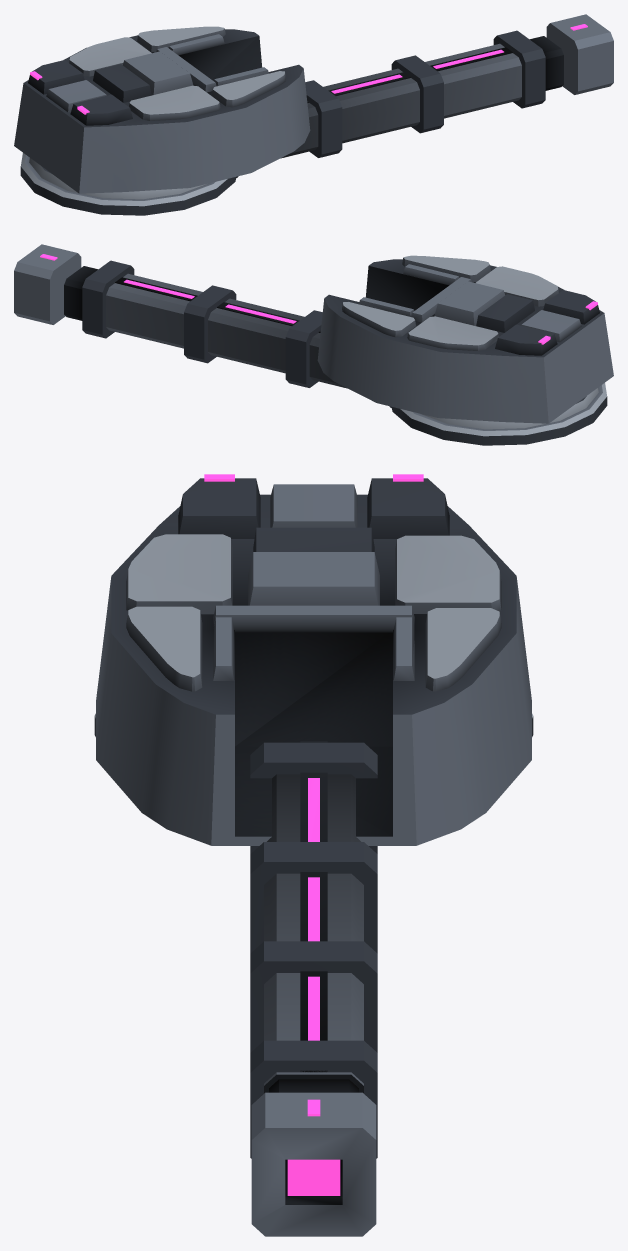
Rendered from lance_lod1.glb.
3 renders of one model, top to bottom at view 1: azimuth 30°, elevation 25°; view 2: azimuth 150°, elevation 25°; view 3: azimuth 270°, elevation 25°, orthographic. The views are drawn at different scales.
Parts seen in each view (by area): view 1: housing, barrel, ring; view 2: housing, barrel, ring; view 3: housing, barrel.
Boxes of the visible parts, x1=… form: housing: x1=14, y1=26, x2=310, y2=193; barrel: x1=236, y1=14, x2=613, y2=178; ring: x1=20, y1=153, x2=236, y2=215; housing: x1=317, y1=255, x2=613, y2=423; barrel: x1=14, y1=244, x2=391, y2=408; ring: x1=391, y1=383, x2=607, y2=445; housing: x1=96, y1=474, x2=531, y2=845; barrel: x1=250, y1=741, x2=377, y2=1236.
Bounding box in the file's own units: 46.9 × 9.5 × 15.81.
